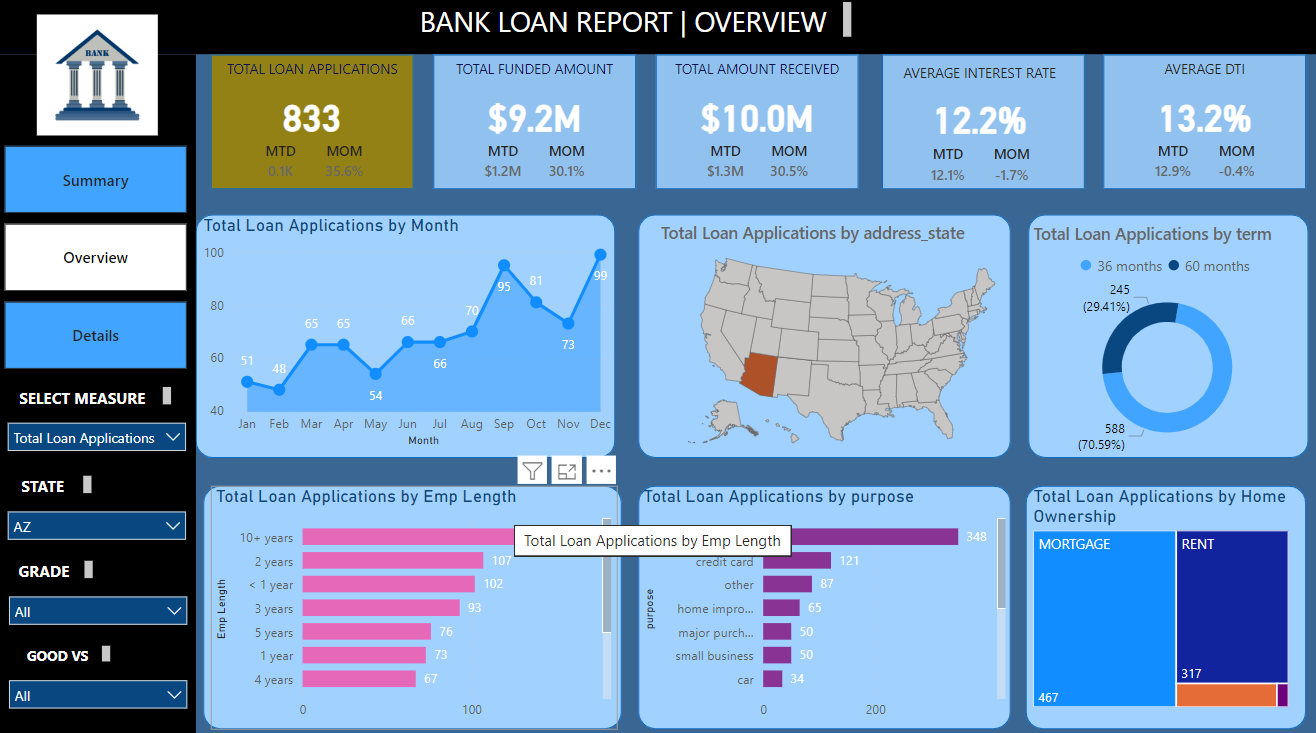

Layout of this report page (visuals, bound fields, positions):
{"tool":"powerbi","page":{"name":"Overview","canvas":[1280,720],"ordinal":1},"visuals":[{"type":"shape","box":[0,0,1280,55.5],"z":0},{"type":"shape","box":[206.5,55.2,195.8,129.9],"z":0,"group":"g2"},{"type":"shape","box":[421,55.2,195.8,129.9],"z":0,"group":"g1"},{"type":"shape","box":[635.4,55.2,195.8,129.9],"z":0,"group":"g4"},{"type":"shape","box":[853.4,55.2,195.8,129.9],"z":0,"group":"g5"},{"type":"shape","box":[1067.9,55.2,195.8,129.9],"z":0,"group":"g6"},{"type":"textbox","box":[402.5,0,426.7,44.1],"z":1000},{"type":"card","fields":{"Values":["financial_loan.Total Loan Applications"]},"box":[206.5,87.2,195.8,51.6],"z":1000,"group":"g2"},{"type":"card","fields":{"Values":["financial_loan.TOTAL FUNDED AMOUNT"]},"box":[421,87.2,195.8,51.6],"z":1000,"group":"g1"},{"type":"card","fields":{"Values":["financial_loan.Total Amount Received"]},"box":[635.4,87.2,195.8,51.6],"z":1000,"group":"g4"},{"type":"card","fields":{"Values":["financial_loan.Avg DTI"]},"box":[1067.9,87.2,195.8,51.6],"z":1000,"group":"g6"},{"type":"card","fields":{"Values":["financial_loan.Average Interest rate"]},"box":[850,90.3,195.8,51.6],"z":1000,"group":"g5"},{"type":"shape","box":[0,55.2,192.2,663.9],"z":2000},{"type":"textbox","box":[206.5,55.2,195.8,32],"z":2000,"group":"g2"},{"type":"textbox","box":[421,55.2,195.8,32],"z":2000,"group":"g1"},{"type":"textbox","box":[635.4,55.2,195.8,32],"z":2000,"group":"g4"},{"type":"textbox","box":[1067.9,55.2,195.8,32],"z":2000,"group":"g6"},{"type":"textbox","box":[850,58.3,195.8,32],"z":2000,"group":"g5"},{"type":"card","title":"MTD","fields":{"Values":["financial_loan.MTD Loan Applications"]},"box":[242.1,138.8,62.3,46.3],"z":3000,"group":"g2"},{"type":"card","title":"MTD","fields":{"Values":["financial_loan.MTD total funded amount"]},"box":[456.6,138.8,62.3,46.3],"z":3000,"group":"g1"},{"type":"card","title":"MTD","fields":{"Values":["financial_loan.MTD Total amount recieved"]},"box":[671,138.8,62.3,46.3],"z":3000,"group":"g4"},{"type":"card","title":"MTD","fields":{"Values":["financial_loan.MTD avg dti"]},"box":[1103.5,138.8,62.3,46.3],"z":3000,"group":"g6"},{"type":"card","title":"MTD","fields":{"Values":["financial_loan.MTD avg interest rate"]},"box":[885.6,141.9,62.3,46.3],"z":3000,"group":"g5"},{"type":"textbox","box":[0,457.4,96.1,28.5],"z":3000},{"type":"card","title":"MOM","fields":{"Values":["financial_loan.MoM Loan Applications"]},"box":[304.4,138.8,62.3,46.3],"z":4000,"group":"g2"},{"type":"card","title":"MOM","fields":{"Values":["financial_loan.MoM Funded Amount"]},"box":[518.9,138.8,62.3,46.3],"z":4000,"group":"g1"},{"type":"card","title":"MOM","fields":{"Values":["financial_loan.MoM total Amount received"]},"box":[733.3,138.8,62.3,46.3],"z":4000,"group":"g4"},{"type":"card","title":"MOM","fields":{"Values":["financial_loan.MoM avg dti"]},"box":[1165.8,138.8,62.3,46.3],"z":4000,"group":"g6"},{"type":"card","title":"MOM","fields":{"Values":["financial_loan.MoM avg interest rate"]},"box":[947.9,141.9,62.3,46.3],"z":4000,"group":"g5"},{"type":"shape","box":[192.2,210,405,235],"z":4000},{"type":"group","id":"g1","title":"Group 2","box":[421,55.2,195.8,129.9],"z":4001,"group":"g3"},{"type":"group","id":"g2","title":"Group 1","box":[206.5,55.2,195.8,129.9],"z":5000},{"type":"group","id":"g3","title":"Group 1","box":[421,55.2,195.8,129.9],"z":6000},{"type":"group","id":"g4","title":"Group 2","box":[635.4,55.2,195.8,129.9],"z":7000},{"type":"group","id":"g5","title":"Group 2","box":[850,55.2,199.2,133],"z":8000},{"type":"group","id":"g6","title":"Group 2","box":[1067.9,55.2,195.8,129.9],"z":9000},{"type":"slicer","fields":{"Values":["financial_loan.address_state"]},"box":[0,485.9,192.2,40.9],"z":10000},{"type":"slicer","fields":{"Values":["financial_loan.grade"]},"box":[1.8,567.8,192.2,40.9],"z":11000},{"type":"textbox","box":[1.8,539.3,96.1,28.5],"z":12000},{"type":"slicer","fields":{"Values":["financial_loan.Good Vs Bad Loan"]},"box":[1.8,649.6,192.2,40.9],"z":13000},{"type":"textbox","box":[10.7,621.1,103.2,28.5],"z":14000},{"type":"areaChart","fields":{"Y":["financial_loan.Total Loan Applications"],"Category":["Date Table.Month"]},"box":[194,210,405.8,229.6],"z":15000},{"type":"slicer","fields":{"Values":["Select measure.Select measure"]},"box":[0,400.5,192.2,57],"z":16000},{"type":"textbox","box":[0,372,172.6,28.5],"z":17000},{"type":"shape","box":[619.4,210,359.5,234.9],"z":18000},{"type":"shapeMap","fields":{"Value":["financial_loan.Total Loan Applications"],"Category":["financial_loan.address_state"]},"box":[635.4,215.4,359.5,229.6],"z":19000},{"type":"shape","box":[994.9,210,270.5,234.9],"z":20000},{"type":"donutChart","fields":{"Y":["financial_loan.Total Loan Applications"],"Category":["financial_loan.term"]},"box":[994.9,217.1,268.7,229.6],"z":21000},{"type":"shape","box":[199.3,471.6,404,234.9],"z":22000},{"type":"barChart","fields":{"Y":["financial_loan.Total Loan Applications"],"Category":["financial_loan.emp_length"]},"box":[206.5,471.6,391.6,234.9],"z":23000},{"type":"shape","box":[619.4,471.6,359.5,234.9],"z":24000},{"type":"barChart","fields":{"Y":["financial_loan.Total Loan Applications"],"Category":["financial_loan.purpose"]},"box":[619.4,471.6,359.5,234.9],"z":25000},{"type":"shape","box":[993.1,471.6,270.5,234.9],"z":26000},{"type":"treemap","fields":{"Values":["financial_loan.Total Loan Applications"],"Group":["financial_loan.home_ownership"]},"box":[994.9,471.6,256.3,218.9],"z":27000},{"type":"pageNavigator","box":[7.1,144.2,176.2,215.4],"z":28000},{"type":"image","box":[4.8,12.1,183.4,126.7],"z":29000}]}

Visuals, with their boxes on the page's 1280x720 design canvas (x1, y1, x2, y2). These are canvas units, not pixel positions in the 1316x733 screenshot, which may show the page scaled, cropped or inside an application window:
shape: 0:0:1280:56
shape: 206:55:402:185
shape: 421:55:617:185
shape: 635:55:831:185
shape: 853:55:1049:185
shape: 1068:55:1264:185
textbox: 402:0:829:44
card - financial_loan.Total Loan Applications: 206:87:402:139
card - financial_loan.TOTAL FUNDED AMOUNT: 421:87:617:139
card - financial_loan.Total Amount Received: 635:87:831:139
card - financial_loan.Avg DTI: 1068:87:1264:139
card - financial_loan.Average Interest rate: 850:90:1046:142
shape: 0:55:192:719
textbox: 206:55:402:87
textbox: 421:55:617:87
textbox: 635:55:831:87
textbox: 1068:55:1264:87
textbox: 850:58:1046:90
"MTD" card: 242:139:304:185
"MTD" card: 457:139:519:185
"MTD" card: 671:139:733:185
"MTD" card: 1104:139:1166:185
"MTD" card: 886:142:948:188
textbox: 0:457:96:486
"MOM" card: 304:139:367:185
"MOM" card: 519:139:581:185
"MOM" card: 733:139:796:185
"MOM" card: 1166:139:1228:185
"MOM" card: 948:142:1010:188
shape: 192:210:597:445
"Group 2" group: 421:55:617:185
"Group 1" group: 206:55:402:185
"Group 1" group: 421:55:617:185
"Group 2" group: 635:55:831:185
"Group 2" group: 850:55:1049:188
"Group 2" group: 1068:55:1264:185
slicer - financial_loan.address_state: 0:486:192:527
slicer - financial_loan.grade: 2:568:194:609
textbox: 2:539:98:568
slicer - financial_loan.Good Vs Bad Loan: 2:650:194:690
textbox: 11:621:114:650
areaChart - financial_loan.Total Loan Applications x Date Table.Month: 194:210:600:440
slicer - Select measure.Select measure: 0:400:192:458
textbox: 0:372:173:400
shape: 619:210:979:445
shapeMap - financial_loan.Total Loan Applications x financial_loan.address_state: 635:215:995:445
shape: 995:210:1265:445
donutChart - financial_loan.Total Loan Applications x financial_loan.term: 995:217:1264:447
shape: 199:472:603:706
barChart - financial_loan.Total Loan Applications x financial_loan.emp_length: 206:472:598:706
shape: 619:472:979:706
barChart - financial_loan.Total Loan Applications x financial_loan.purpose: 619:472:979:706
shape: 993:472:1264:706
treemap - financial_loan.Total Loan Applications x financial_loan.home_ownership: 995:472:1251:690
pageNavigator: 7:144:183:360
image: 5:12:188:139
